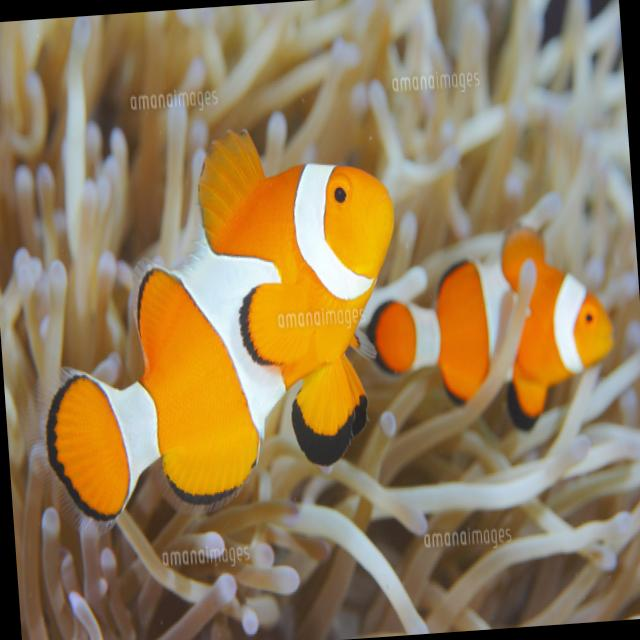ClownFish: (26, 119, 416, 526), (372, 223, 621, 440)
